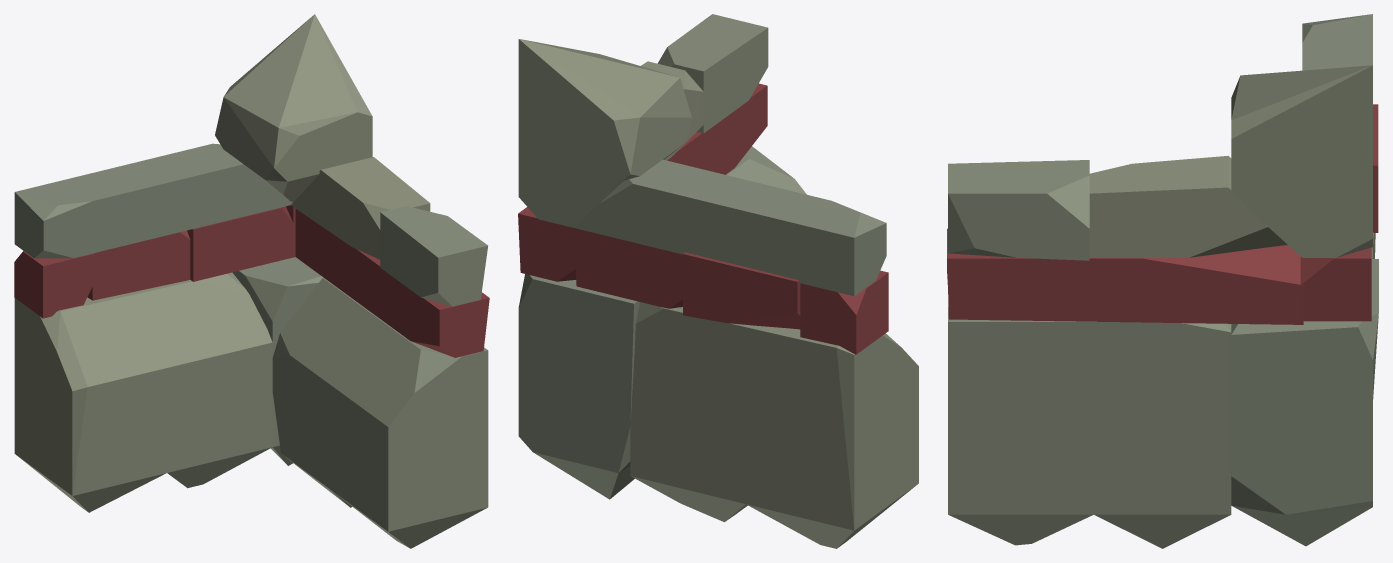
File: railing_corner_large_conc.fbx
3 renders of one model, left to right at view 1: azimuth 30°, elevation 25°; view 2: azimuth 150°, elevation 25°; view 3: azimuth 270°, elevation 25°, orthographic. The views are drawn at different scales.
Visible parts, largest first — view 1: railing_corner_large_conc; view 2: railing_corner_large_conc; view 3: railing_corner_large_conc.
Part boxes in pixels (x1,y1,x2,y2): railing_corner_large_conc: [14, 14, 489, 548]; railing_corner_large_conc: [518, 14, 918, 548]; railing_corner_large_conc: [947, 14, 1378, 548].
Bounding box in the file's own units: 153 × 200 × 152.
